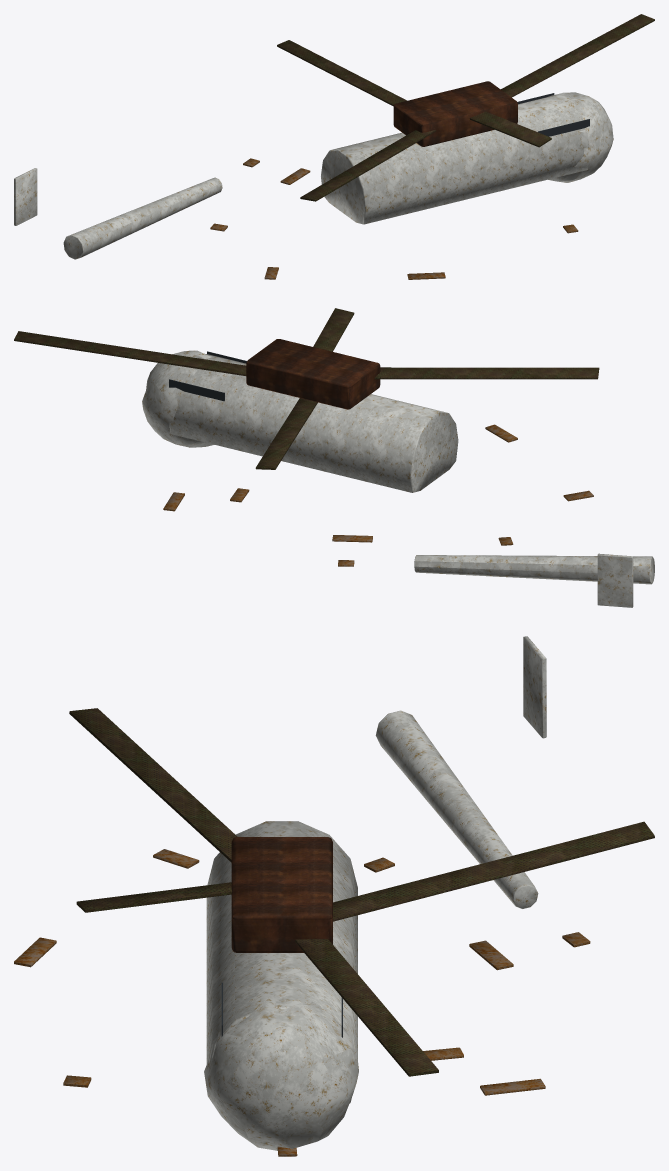
File: veh_heli_wreck.gltf
3 renders of one model, top to bottom at view 1: azimuth 30°, elevation 25°; view 2: azimuth 150°, elevation 25°; view 3: azimuth 270°, elevation 25°, orthographic. The views are drawn at different scales.
Parts seen in each view (by area): view 1: cyl, box.002, cyl.001, blob, box.004, box.006, box.005, box.003, box.007, box; view 2: cyl, box.002, cyl.001, box.006, blob, box.004, box.003, box.005, box.007, box.001; view 3: blob, cyl, box.002, cyl.001, box.005, box.004, box.006, box.003, box.007.
Part boxes in pixels (x1,y1,x2,y2): cyl: (321,95,589,224); box.002: (393,81,517,146); cyl.001: (63,177,222,259); blob: (545,92,613,182); box.004: (501,14,654,97); box.006: (300,130,436,201); box.005: (277,40,406,106); box.003: (14,168,37,225); box.007: (469,111,551,147); box: (538,119,589,136); cyl: (169,353,458,492); box.002: (246,339,380,409); cyl.001: (414,555,654,584); box.006: (374,367,599,379); blob: (142,350,214,447); box.004: (14,331,246,375); box.003: (597,553,633,607); box.005: (255,398,317,469); box.007: (313,308,354,351); box.001: (169,379,224,401); blob: (204,995,358,1150); cyl: (206,821,357,1103); box.002: (231,837,332,952); cyl.001: (375,710,538,908); box.005: (333,821,654,921); box.004: (295,939,438,1076); box.006: (69,708,237,862); box.003: (523,636,546,738); box.007: (76,882,231,912).
Bounding box in the file's own units: 18.76 × 3.07 × 10.15.
Materials: 5 (4 with a texture image).
